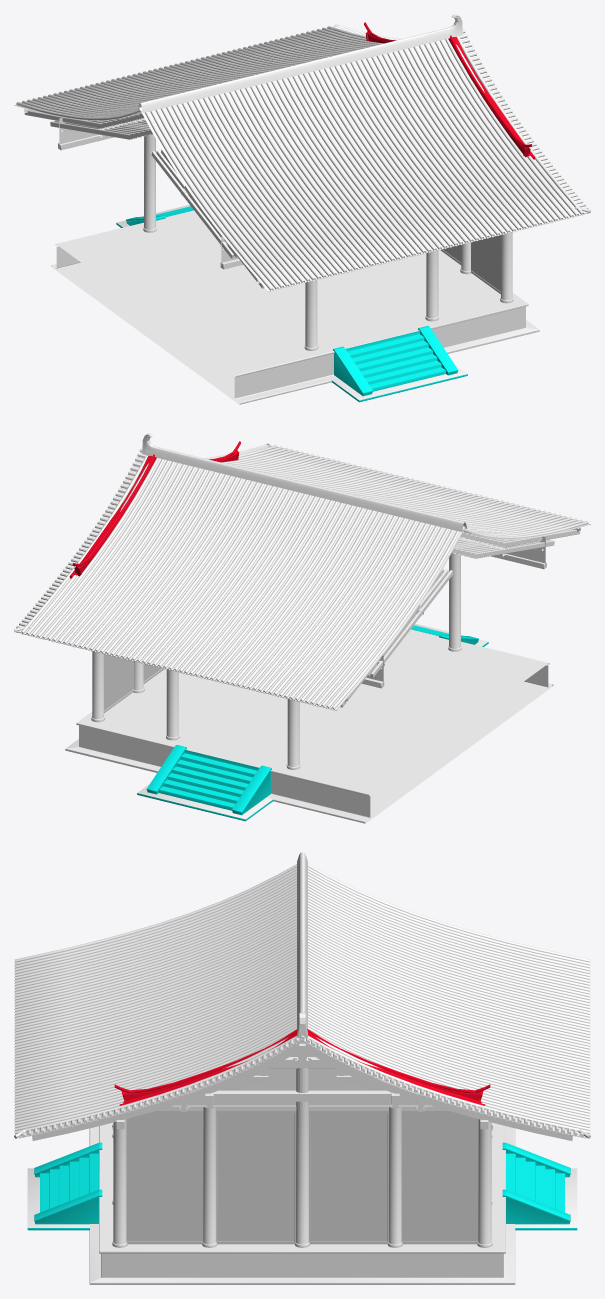
The model's file is Wall Big End 2.fbx.
The picture shows the model from 3 angles, top to bottom: view 1: azimuth 30°, elevation 25°; view 2: azimuth 150°, elevation 25°; view 3: azimuth 270°, elevation 25°; orthographic projection. The views are drawn at different scales.
Parts seen in each view (by area): view 1: S_Heiankyo_Building_Roof_Long.002, S_Heiankyo_Building_Foundation_Loop.012, S_Heiankyo_Building_Foundation_Corner.005, S_Heiankyo_Building_StairSmall.009, S_Heiankyo_Building_Roof_End.001, S_Heiankyo_Building_UnderRoof_Long.002, S_Heiankyo_Building_Pillar_2.017, S_Heiankyo_Building_Panel_Wall.001, S_Heiankyo_Building_Pillar_2.018, S_Heiankyo_Building_Pillar_2.006, S_Heiankyo_Building_WallClosed.073; view 2: S_Heiankyo_Building_Roof_Long.002, S_Heiankyo_Building_Foundation_Loop.012, S_Heiankyo_Building_Foundation_Corner.005, S_Heiankyo_Building_StairSmall.009, S_Heiankyo_Building_Roof_End.001, S_Heiankyo_Building_UnderRoof_Long.002, S_Heiankyo_Building_Pillar_2.017, S_Heiankyo_Building_Panel_Wall.001, S_Heiankyo_Building_Pillar_2.018, S_Heiankyo_Building_Pillar_2.006, S_Heiankyo_Building_WallClosed.073; view 3: S_Heiankyo_Building_Roof_Long.002, S_Heiankyo_Building_Panel_Wall.002, S_Heiankyo_Building_Panel_Wall.001, S_Heiankyo_Building_Foundation_Corner.005, S_Heiankyo_Building_Roof_End.001, S_Heiankyo_Building_StairSmall.009, S_Heiankyo_Building_Pillar_2.007, S_Heiankyo_Building_Pillar_2.006, S_Heiankyo_Building_Pillar_2.008, S_Heiankyo_Building_Foundation_Loop.012.
Boxes of the visible parts, box(x1,y1,x2,y2) form: S_Heiankyo_Building_Roof_Long.002: box(14, 26, 584, 291); S_Heiankyo_Building_Foundation_Loop.012: box(51, 210, 383, 404); S_Heiankyo_Building_Foundation_Corner.005: box(317, 250, 539, 353); S_Heiankyo_Building_StairSmall.009: box(116, 204, 467, 402); S_Heiankyo_Building_Roof_End.001: box(331, 14, 590, 214); S_Heiankyo_Building_UnderRoof_Long.002: box(24, 108, 264, 288); S_Heiankyo_Building_Pillar_2.017: box(143, 134, 318, 350); S_Heiankyo_Building_Panel_Wall.001: box(470, 235, 500, 294); S_Heiankyo_Building_Pillar_2.018: box(425, 250, 438, 321); S_Heiankyo_Building_Pillar_2.006: box(500, 232, 513, 303); S_Heiankyo_Building_WallClosed.073: box(59, 117, 238, 265); S_Heiankyo_Building_Roof_Long.002: box(20, 445, 590, 710); S_Heiankyo_Building_Foundation_Loop.012: box(221, 629, 553, 823); S_Heiankyo_Building_Foundation_Corner.005: box(65, 669, 287, 772); S_Heiankyo_Building_StairSmall.009: box(137, 623, 488, 821); S_Heiankyo_Building_Roof_End.001: box(14, 433, 273, 633); S_Heiankyo_Building_UnderRoof_Long.002: box(340, 527, 580, 707); S_Heiankyo_Building_Pillar_2.017: box(286, 553, 461, 769); S_Heiankyo_Building_Panel_Wall.001: box(104, 654, 134, 713); S_Heiankyo_Building_Pillar_2.018: box(166, 669, 179, 740); S_Heiankyo_Building_Pillar_2.006: box(91, 651, 104, 722); S_Heiankyo_Building_WallClosed.073: box(366, 536, 545, 684); S_Heiankyo_Building_Roof_Long.002: box(14, 852, 590, 1134); S_Heiankyo_Building_Panel_Wall.002: box(216, 1111, 388, 1244); S_Heiankyo_Building_Panel_Wall.001: box(126, 1111, 478, 1244); S_Heiankyo_Building_Foundation_Corner.005: box(89, 1171, 515, 1284); S_Heiankyo_Building_Roof_End.001: box(14, 1009, 590, 1140); S_Heiankyo_Building_StairSmall.009: box(27, 1142, 577, 1230); S_Heiankyo_Building_Pillar_2.007: box(202, 1107, 402, 1247); S_Heiankyo_Building_Pillar_2.006: box(112, 1119, 492, 1247); S_Heiankyo_Building_Pillar_2.008: box(294, 1107, 310, 1247); S_Heiankyo_Building_Foundation_Loop.012: box(89, 1122, 515, 1172).
Size of the model in its own units: 875 by 632 by 1192.
